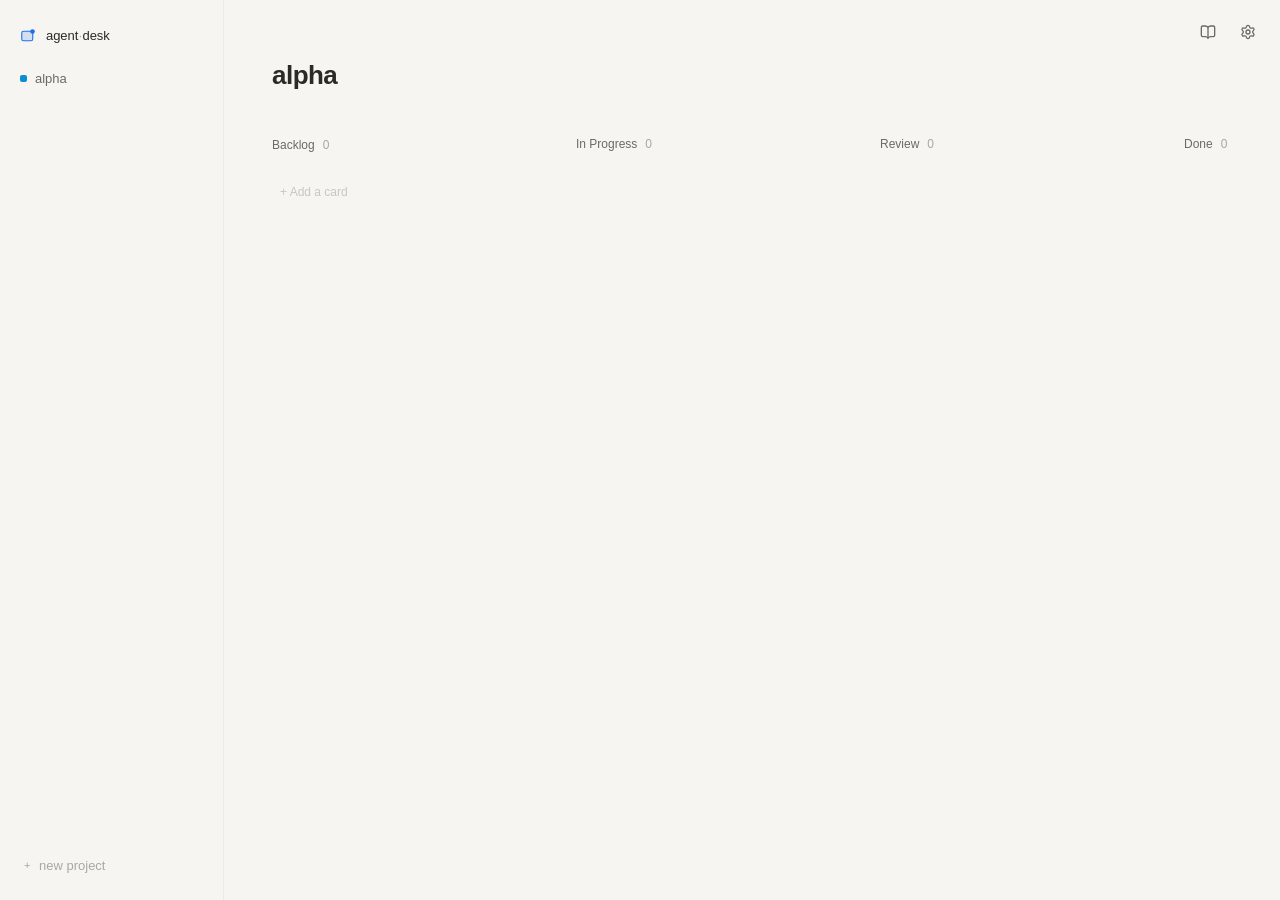
ProjectsPage › auto-opens a new card when the autoOpenNewCards setting is on
The image size is (1280, 900).
Expected: the text "alpha" is shown, [35,68,67,88]
Click the button "+ Add a card": click(314, 192) [272,175,552,209]
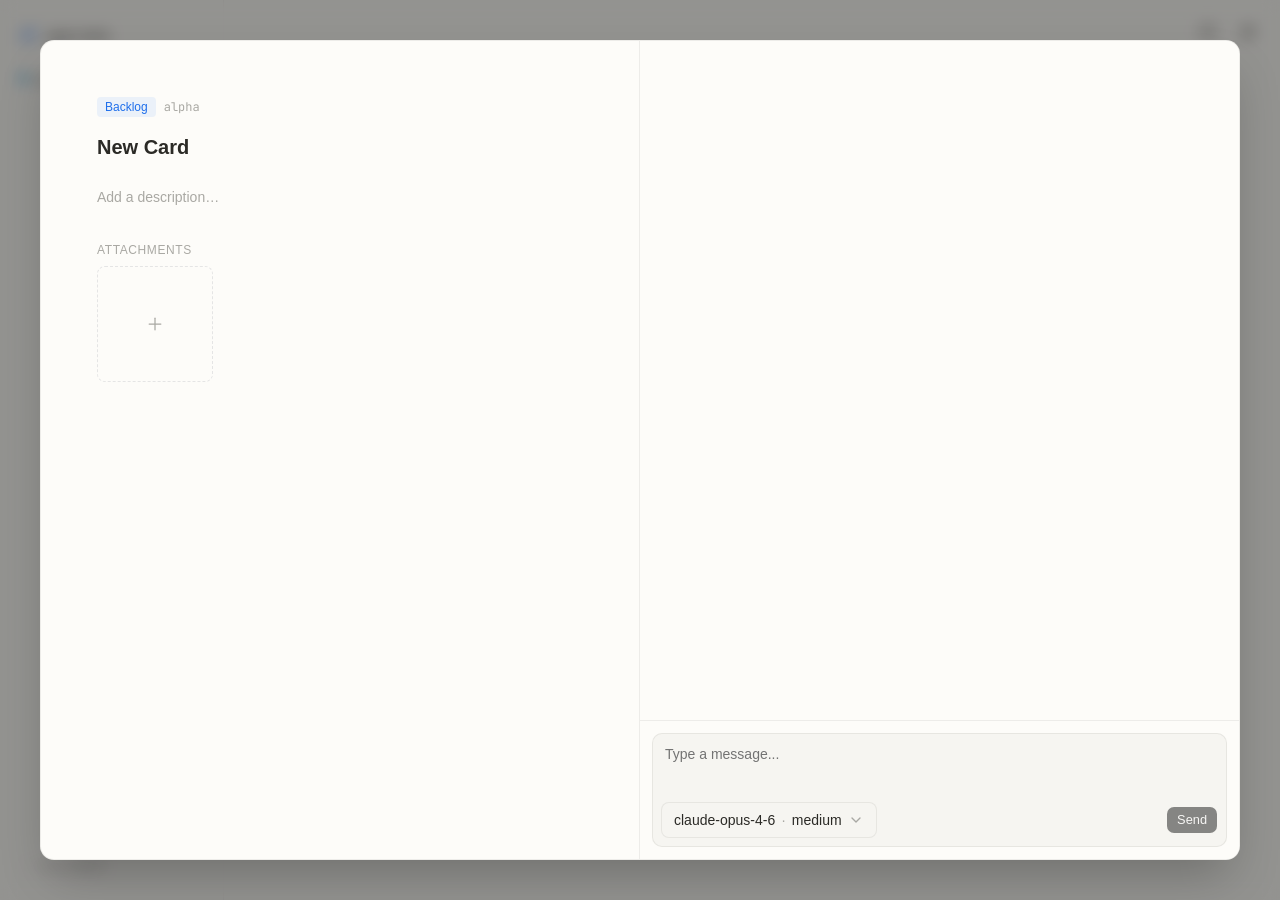
Now the element with test id "modal-overlay" is shown
